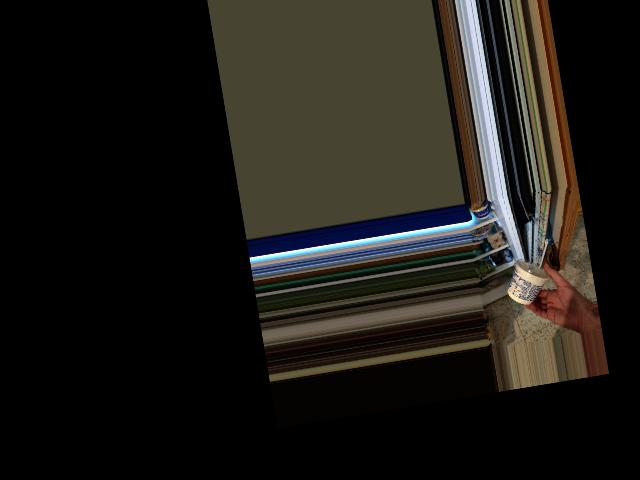cotage: (503, 252, 553, 301)
